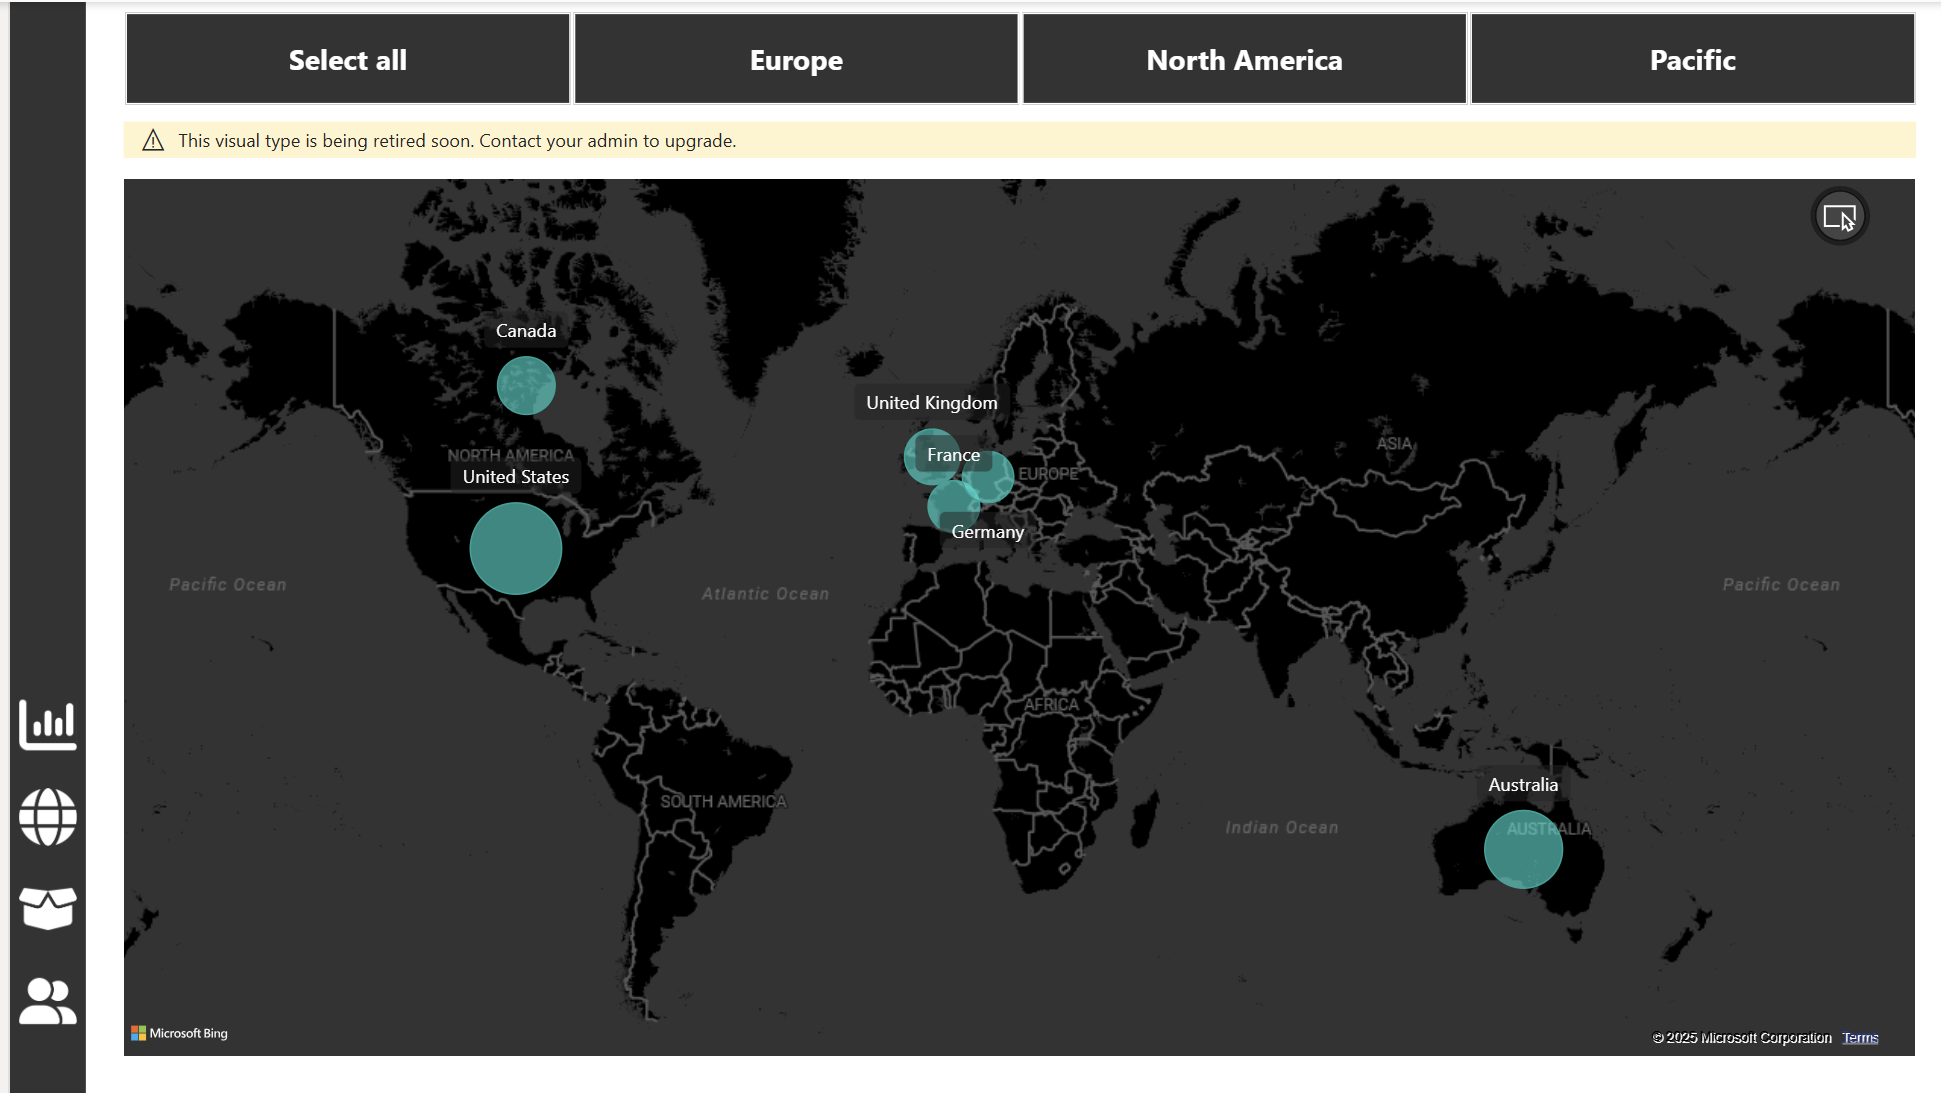

This screenshot's page, from the dashboard's own definition file:
{"tool":"powerbi","page":{"name":"Map","canvas":[1280,720],"ordinal":1},"visuals":[{"type":"shape","box":[0,0,50,720],"z":0},{"type":"actionButton","box":[0,453.5,50.1,46.1],"z":0,"group":"g1"},{"type":"map","fields":{"Size":["Measure Table.Total Orders"],"Category":["Territory Lookup.Country"]},"box":[70,74.3,1191.4,625.7],"z":1000},{"type":"actionButton","box":[0,514.1,50.1,46.1],"z":1000,"group":"g1"},{"type":"slicer","fields":{"Values":["Territory Lookup.Continent"]},"box":[50,0,1230,74.3],"z":2000},{"type":"actionButton","box":[0,574.8,50.1,46.1],"z":2000,"group":"g1"},{"type":"group","id":"g1","title":"Navigation Buttons","box":[0,453.5,50.1,228.1],"z":3000},{"type":"actionButton","box":[0,635.4,50.1,46.1],"z":3000,"group":"g1"}]}

Visuals, with their boxes on the page's 1280x720 design canvas (x1, y1, x2, y2). These are canvas units, not pixel positions in the 1941x1093 screenshot, which may show the page scaled, cropped or inside an application window:
shape: BBox(0, 0, 50, 720)
actionButton: BBox(0, 454, 50, 500)
map - Measure Table.Total Orders x Territory Lookup.Country: BBox(70, 74, 1261, 700)
actionButton: BBox(0, 514, 50, 560)
slicer - Territory Lookup.Continent: BBox(50, 0, 1280, 74)
actionButton: BBox(0, 575, 50, 621)
"Navigation Buttons" group: BBox(0, 454, 50, 682)
actionButton: BBox(0, 635, 50, 682)
